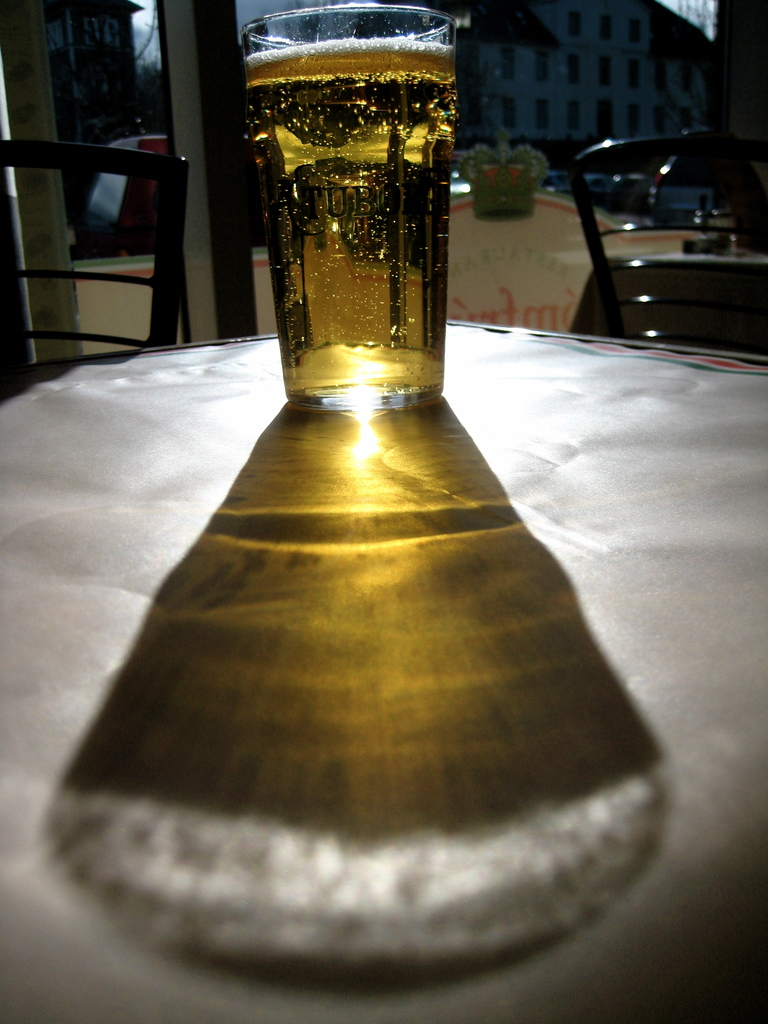Beer: (238, 28, 471, 375)
